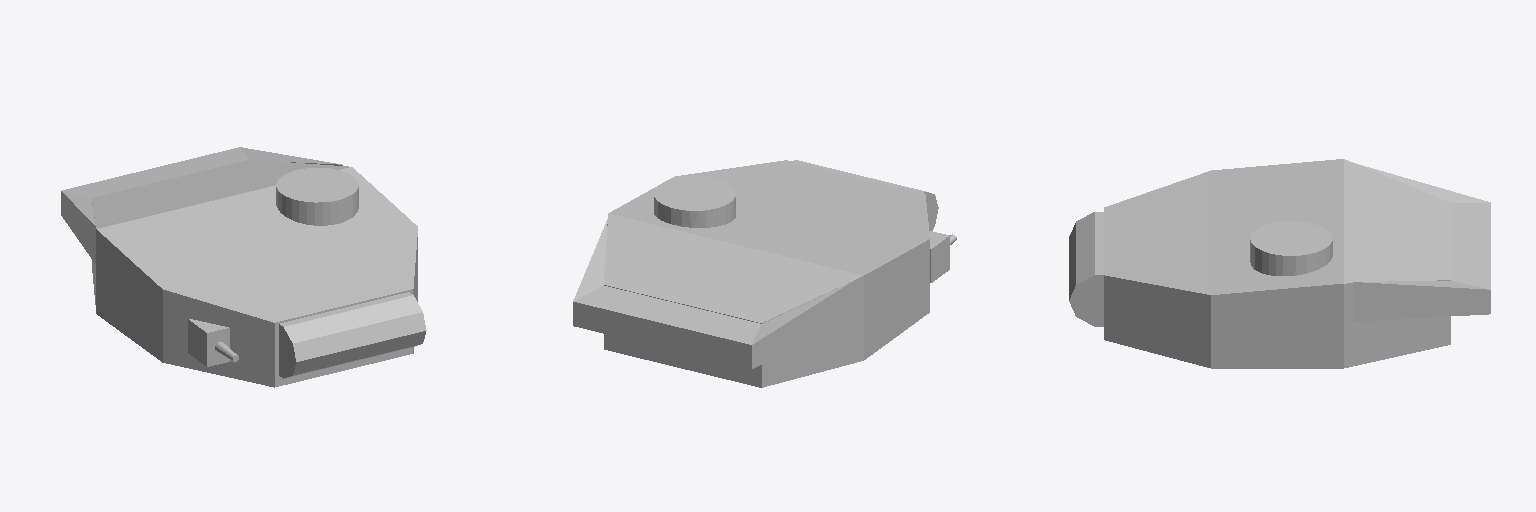
The model's file is CenturionTurret.obj.
The picture shows the model from 3 angles: view 1: azimuth 30°, elevation 25°; view 2: azimuth 150°, elevation 25°; view 3: azimuth 270°, elevation 25°; orthographic projection.
Visible parts, largest first — view 1: 立方体.214_立方体.431, 円柱_円柱.041, 円柱.003_円柱.046, 立方体.215_立方体.432; view 2: 立方体.214_立方体.431, 円柱.003_円柱.046, 立方体.215_立方体.432, 円柱_円柱.041; view 3: 立方体.214_立方体.431, 円柱.003_円柱.046, 円柱_円柱.041.
Part boxes in pixels (bbox=[...]): 立方体.214_立方体.431: bbox=[61, 147, 417, 387]; 円柱_円柱.041: bbox=[279, 292, 426, 378]; 円柱.003_円柱.046: bbox=[276, 168, 358, 225]; 立方体.215_立方体.432: bbox=[188, 319, 229, 366]; 立方体.214_立方体.431: bbox=[573, 160, 929, 387]; 円柱.003_円柱.046: bbox=[654, 176, 735, 227]; 立方体.215_立方体.432: bbox=[930, 231, 949, 282]; 円柱_円柱.041: bbox=[793, 160, 938, 230]; 立方体.214_立方体.431: bbox=[1104, 159, 1490, 368]; 円柱.003_円柱.046: bbox=[1250, 221, 1332, 275]; 円柱_円柱.041: bbox=[1069, 212, 1103, 326].
Bounding box in the file's own units: 3.93 × 1.48 × 5.62.